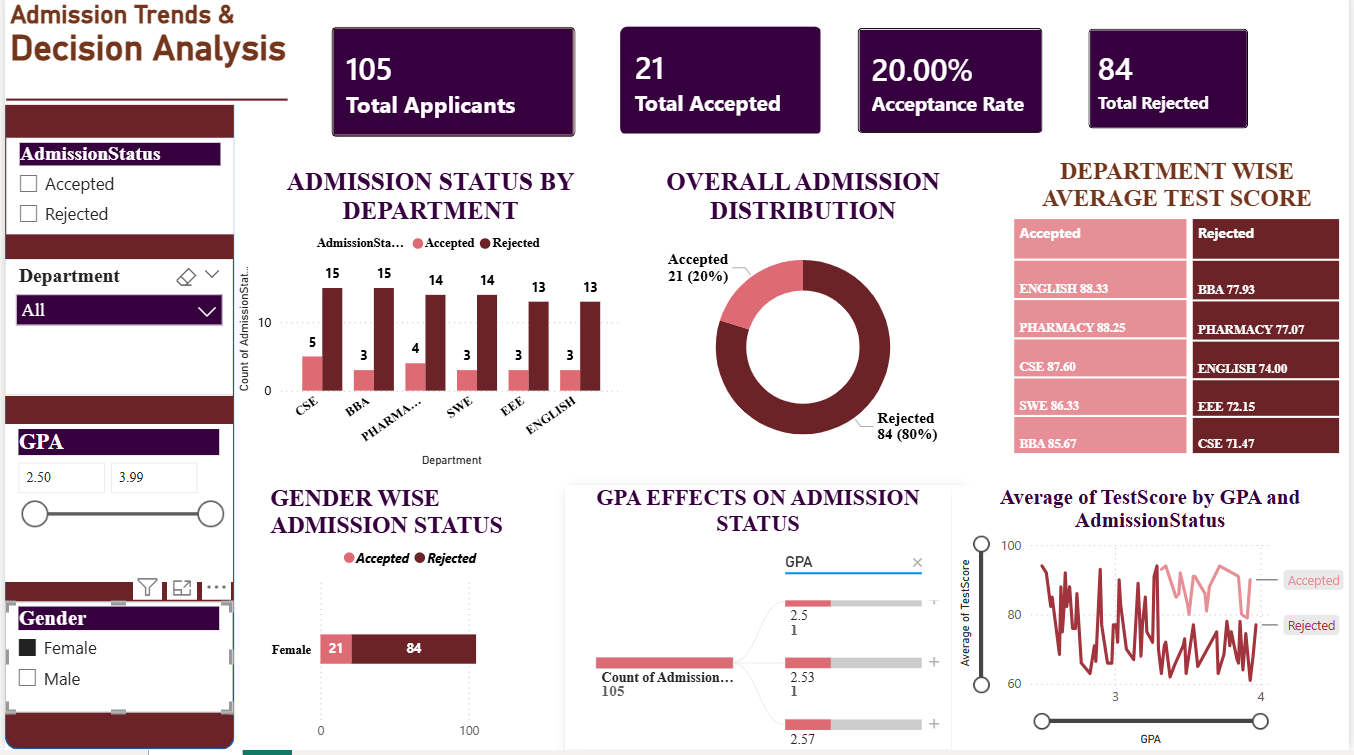

What the dashboard file says about the page in this screenshot:
{"tool":"powerbi","page":{"name":"Page 1","canvas":[1280,720],"ordinal":0},"visuals":[{"type":"clusteredColumnChart","title":"ADMISSION STATUS BY DEPARTMENT","fields":{"Category":["Sheet1.Department"],"Series":["Sheet1.AdmissionStatus"],"Y":["CountNonNull(Sheet1.AdmissionStatus)"]},"box":[217.9,165.5,375,289.3],"z":0},{"type":"donutChart","title":"OVERALL ADMISSION DISTRIBUTION","fields":{"Category":["Sheet1.AdmissionStatus"],"Y":["CountNonNull(Sheet1.AdmissionStatus)"]},"box":[592.9,165.5,334.5,289.3],"z":1000},{"type":"barChart","title":"GENDER WISE ADMISSION STATUS","fields":{"Category":["Sheet1.Gender"],"Series":["Sheet1.AdmissionStatus"],"Y":["CountNonNull(Sheet1.AdmissionStatus)"]},"box":[247.6,467.9,279.8,252.4],"z":2000},{"type":"treemap","title":"DEPARTMENT WISE AVERAGE TEST SCORE ","fields":{"Group":["Sheet1.AdmissionStatus"],"Details":["Sheet1.Department"],"Values":["Avg(Sheet1.TestScore)"]},"box":[952.4,156,327.4,290.5],"z":3000},{"type":"decompositionTreeVisual","title":"GPA EFFECTS ON ADMISSION STATUS","fields":{"Analyze":["CountNonNull(Sheet1.AdmissionStatus)"],"ExplainBy":["Sheet1.GPA","Sheet1.Department","Sheet1.Gender"]},"box":[533.3,467.9,367.9,252.4],"z":4000},{"type":"lineChart","fields":{"Category":["Sheet1.GPA"],"Series":["Sheet1.AdmissionStatus"],"Y":["Avg(Sheet1.TestScore)"]},"box":[901.2,467.9,378.6,252.4],"z":5000},{"type":"cardVisual","fields":{"Data":["Sheet1.Total Applicants","Sheet1.Total Applicants"]},"box":[304.8,25,244,117.9],"z":6000},{"type":"cardVisual","fields":{"Data":["Sheet1.Total Accepted"]},"box":[566.7,11.9,228.6,141.7],"z":7000},{"type":"cardVisual","fields":{"Data":["Sheet1.Total Rejected"]},"box":[1016.7,17.9,182.1,125],"z":8000},{"type":"cardVisual","fields":{"Data":["Sheet1.Acceptance Rate"]},"box":[795.2,15.5,210.7,134.5],"z":9000},{"type":"shape","box":[0,73.7,218.4,645.6],"z":10000},{"type":"textbox","box":[0,0,284,105.7],"z":11000},{"type":"slicer","fields":{"Values":["Sheet1.Department"]},"box":[0,251.8,217,130.8],"z":12000},{"type":"slicer","fields":{"Values":["Sheet1.Gender"]},"box":[0,578.8,217,105.7],"z":13000},{"type":"slicer","fields":{"Values":["Sheet1.GPA"]},"box":[0,409,217,150.3],"z":14000},{"type":"slicer","fields":{"Values":["Sheet1.AdmissionStatus"]},"box":[1.4,136.3,217,91.8],"z":15000},{"type":"shape","box":[1.2,0,267.9,201.2],"z":16000}]}

Visuals, with their boxes in screenshot pixels (x1, y1, x2, y2), scaled from the page's 1280x720 canvas onto the 1354x755 screenshot:
"ADMISSION STATUS BY DEPARTMENT" clusteredColumnChart: <box>230,174,627,477</box>
"OVERALL ADMISSION DISTRIBUTION" donutChart: <box>627,174,981,477</box>
"GENDER WISE ADMISSION STATUS" barChart: <box>262,491,558,754</box>
"DEPARTMENT WISE AVERAGE TEST SCORE " treemap: <box>1007,164,1353,468</box>
"GPA EFFECTS ON ADMISSION STATUS" decompositionTreeVisual: <box>564,491,953,754</box>
lineChart - Sheet1.GPA x Sheet1.AdmissionStatus: <box>953,491,1353,754</box>
cardVisual - Sheet1.Total Applicants x Sheet1.Total Applicants: <box>322,26,581,150</box>
cardVisual - Sheet1.Total Accepted: <box>599,12,841,161</box>
cardVisual - Sheet1.Total Rejected: <box>1075,19,1268,150</box>
cardVisual - Sheet1.Acceptance Rate: <box>841,16,1064,157</box>
shape: <box>0,77,231,754</box>
textbox: <box>0,0,300,111</box>
slicer - Sheet1.Department: <box>0,264,230,401</box>
slicer - Sheet1.Gender: <box>0,607,230,718</box>
slicer - Sheet1.GPA: <box>0,429,230,586</box>
slicer - Sheet1.AdmissionStatus: <box>1,143,231,239</box>
shape: <box>1,0,285,211</box>
